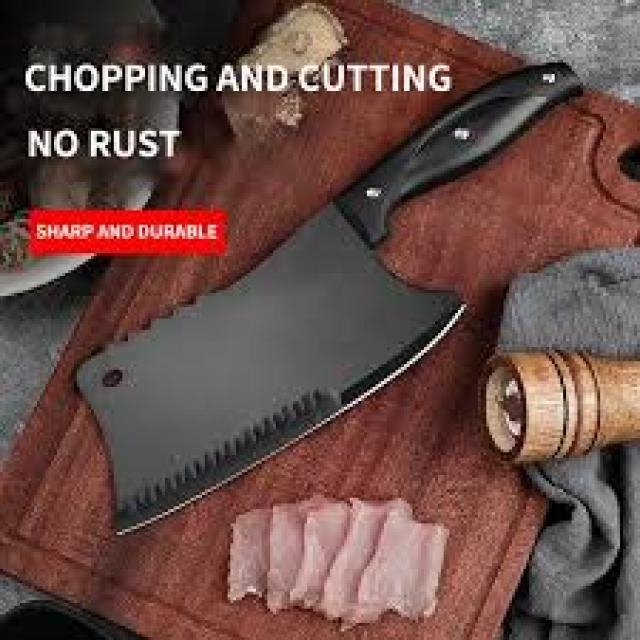Knife: (77, 63, 577, 532)
